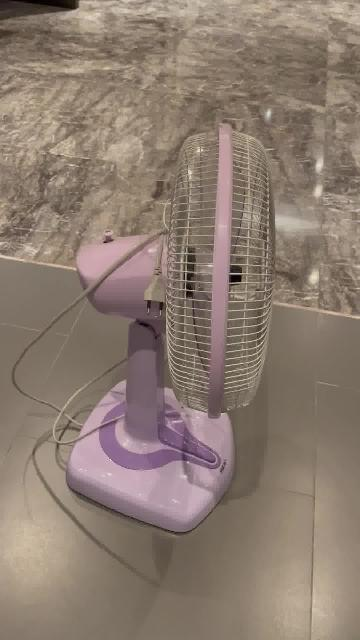Fan: (66, 122, 275, 536)
